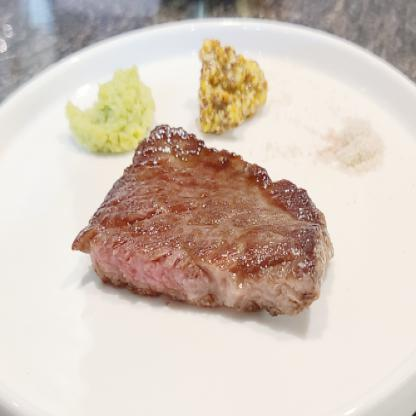Carne: (82, 122, 332, 321)
